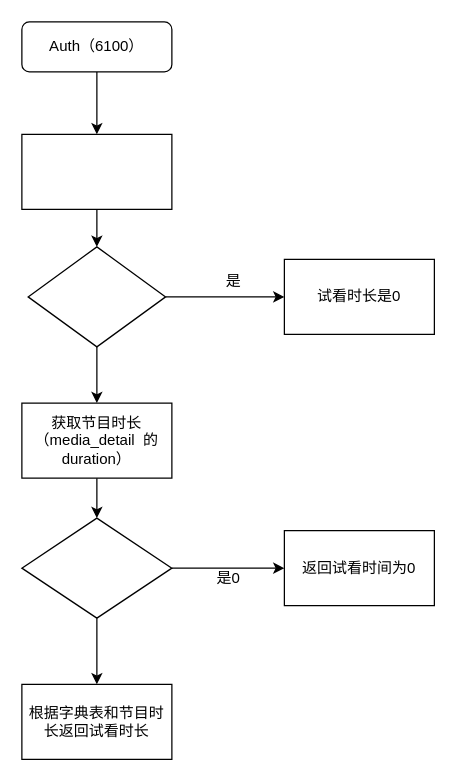
This 456x781 diagram has some shape labels left out. Each missing label, with the box of its shape:
判断duration是否为0: (21, 517, 172, 618)
判断是否为空: (27, 246, 166, 347)
获取字典表时长范围: (21, 133, 172, 209)
